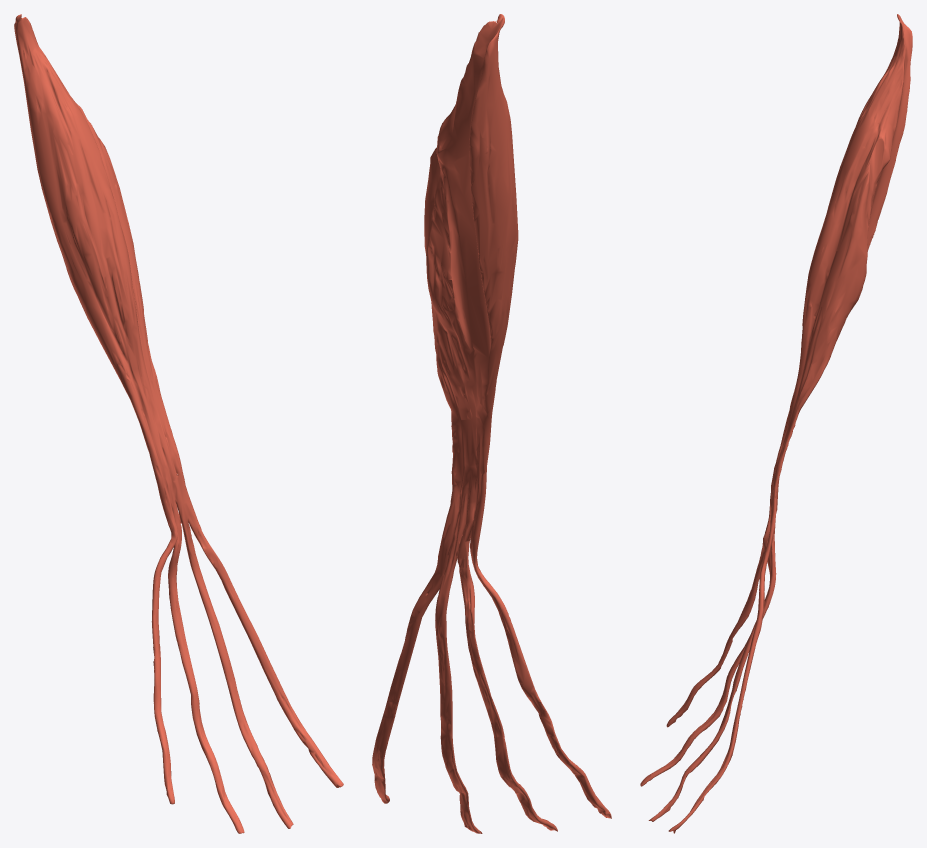
Rendered from flexor-digitorum-profundus.glb.
3 views of the same model, side by side, from view 1: azimuth 30°, elevation 25°; view 2: azimuth 150°, elevation 25°; view 3: azimuth 270°, elevation 25° (orthographic). The views are drawn at different scales.
Parts seen in each view (by area): view 1: Flexor digitorum profundus.l; view 2: Flexor digitorum profundus.l; view 3: Flexor digitorum profundus.l.
Boxes of the visible parts, box(x1,y1,x2,y2) form: Flexor digitorum profundus.l: box(14, 14, 343, 833); Flexor digitorum profundus.l: box(372, 14, 611, 833); Flexor digitorum profundus.l: box(640, 14, 912, 833).
Bounding box in the file's own units: 0.1065 × 0.3651 × 0.1221.
